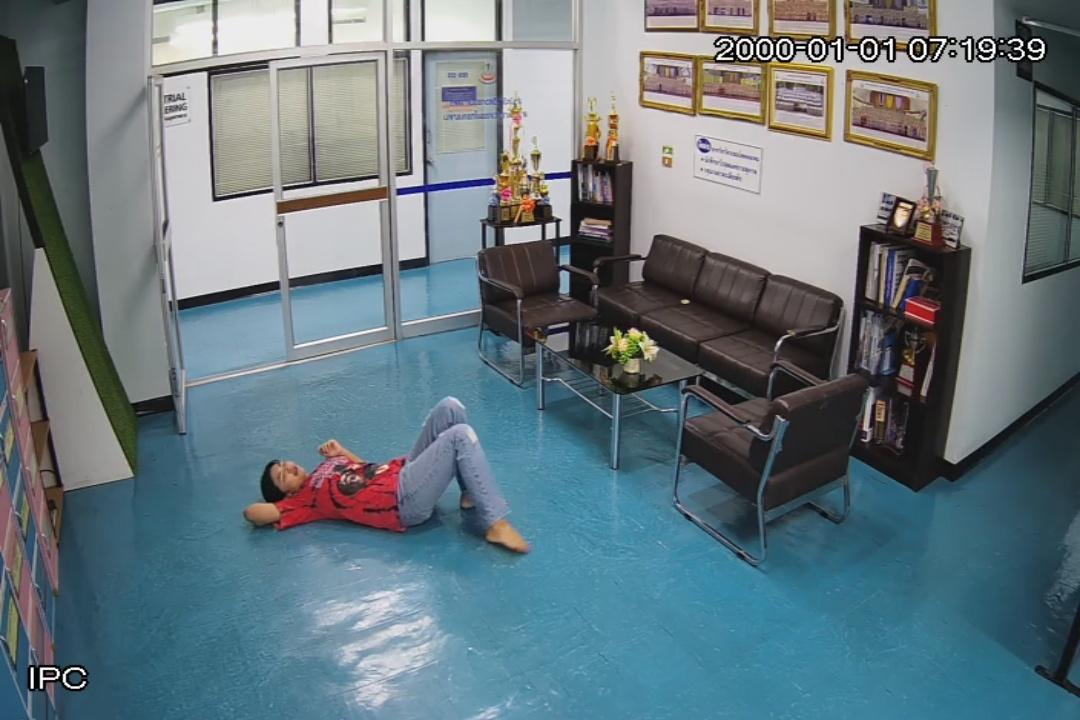fall: (236, 386, 528, 558)
